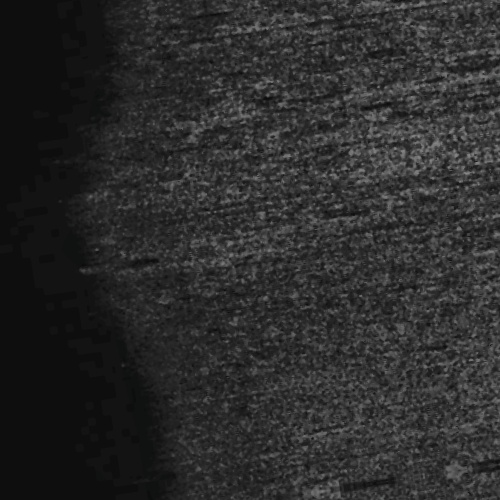object: (335, 496, 398, 500)
shadow: (367, 496, 467, 500)
